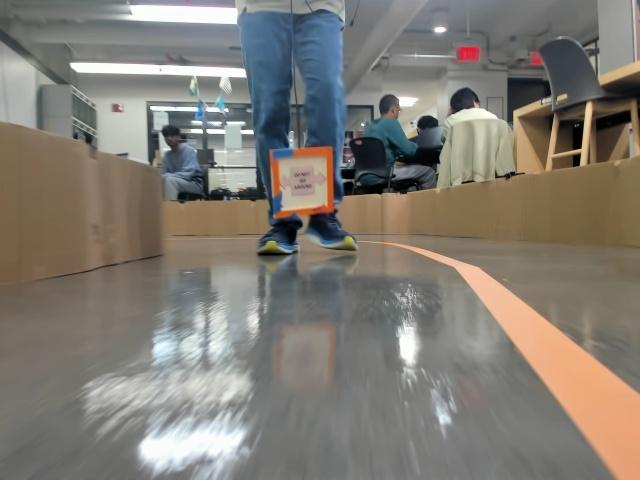Do Not Go Around: (278, 167, 323, 196)
